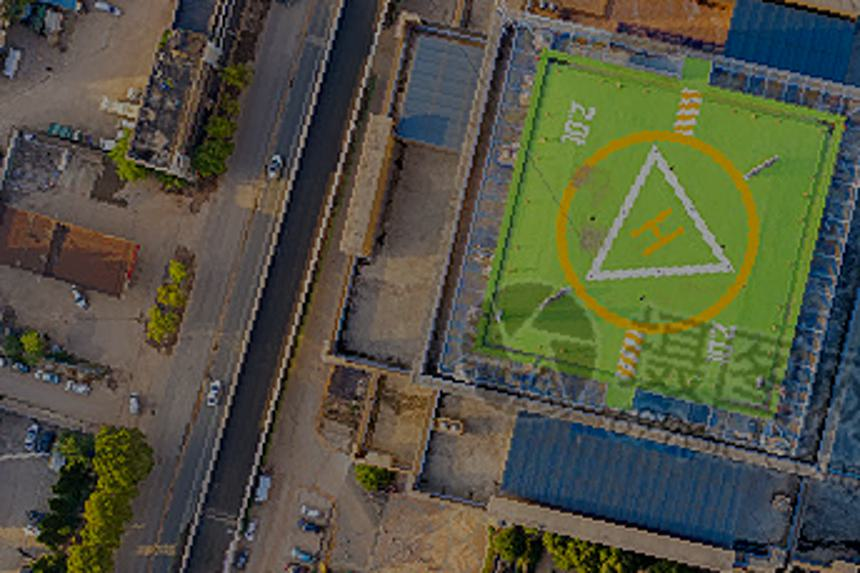Apron: (554, 131, 759, 335)
